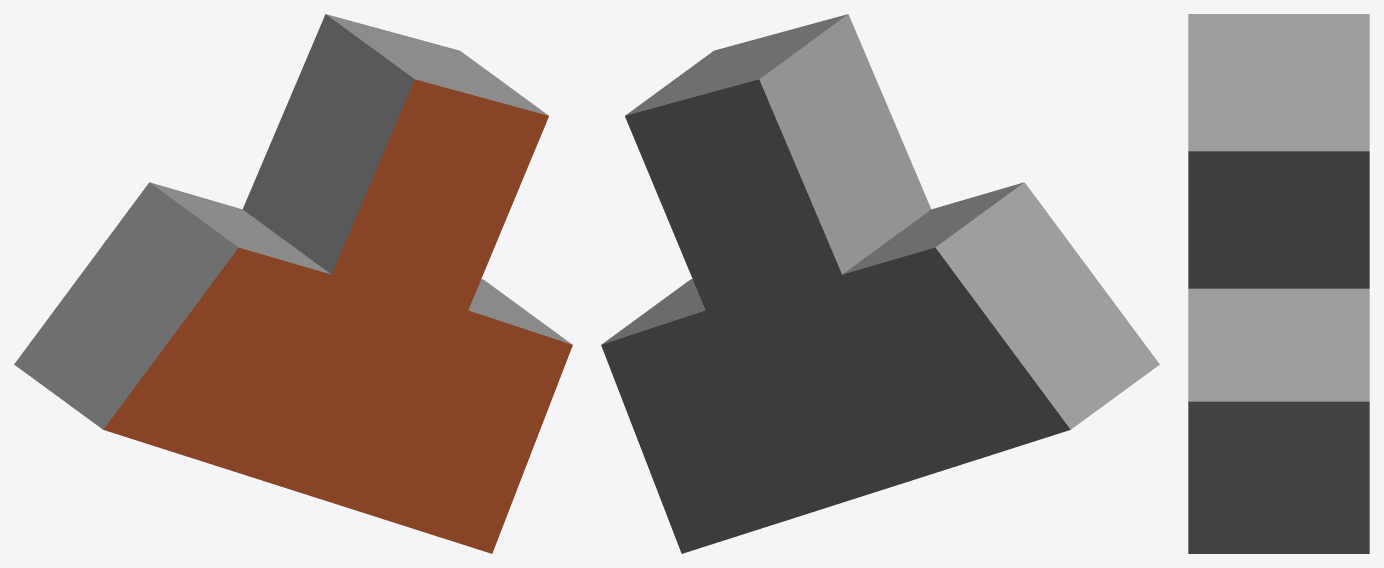
The model's file is construction_6449_assumed_A_Casa_h6m.obj.
3 renders of one model, left to right at view 1: azimuth 30°, elevation 25°; view 2: azimuth 150°, elevation 25°; view 3: azimuth 270°, elevation 25°, orthographic.
Visible parts, largest first — view 1: construction_6449_assumed_A_Casa; view 2: construction_6449_assumed_A_Casa; view 3: construction_6449_assumed_A_Casa.
Boxes of the visible parts, x1,y1,x2,y2 form: construction_6449_assumed_A_Casa: (14, 14, 572, 553); construction_6449_assumed_A_Casa: (601, 14, 1159, 553); construction_6449_assumed_A_Casa: (1188, 14, 1369, 553).
Size of the model in its own units: 18.24 by 18.31 by 6.
